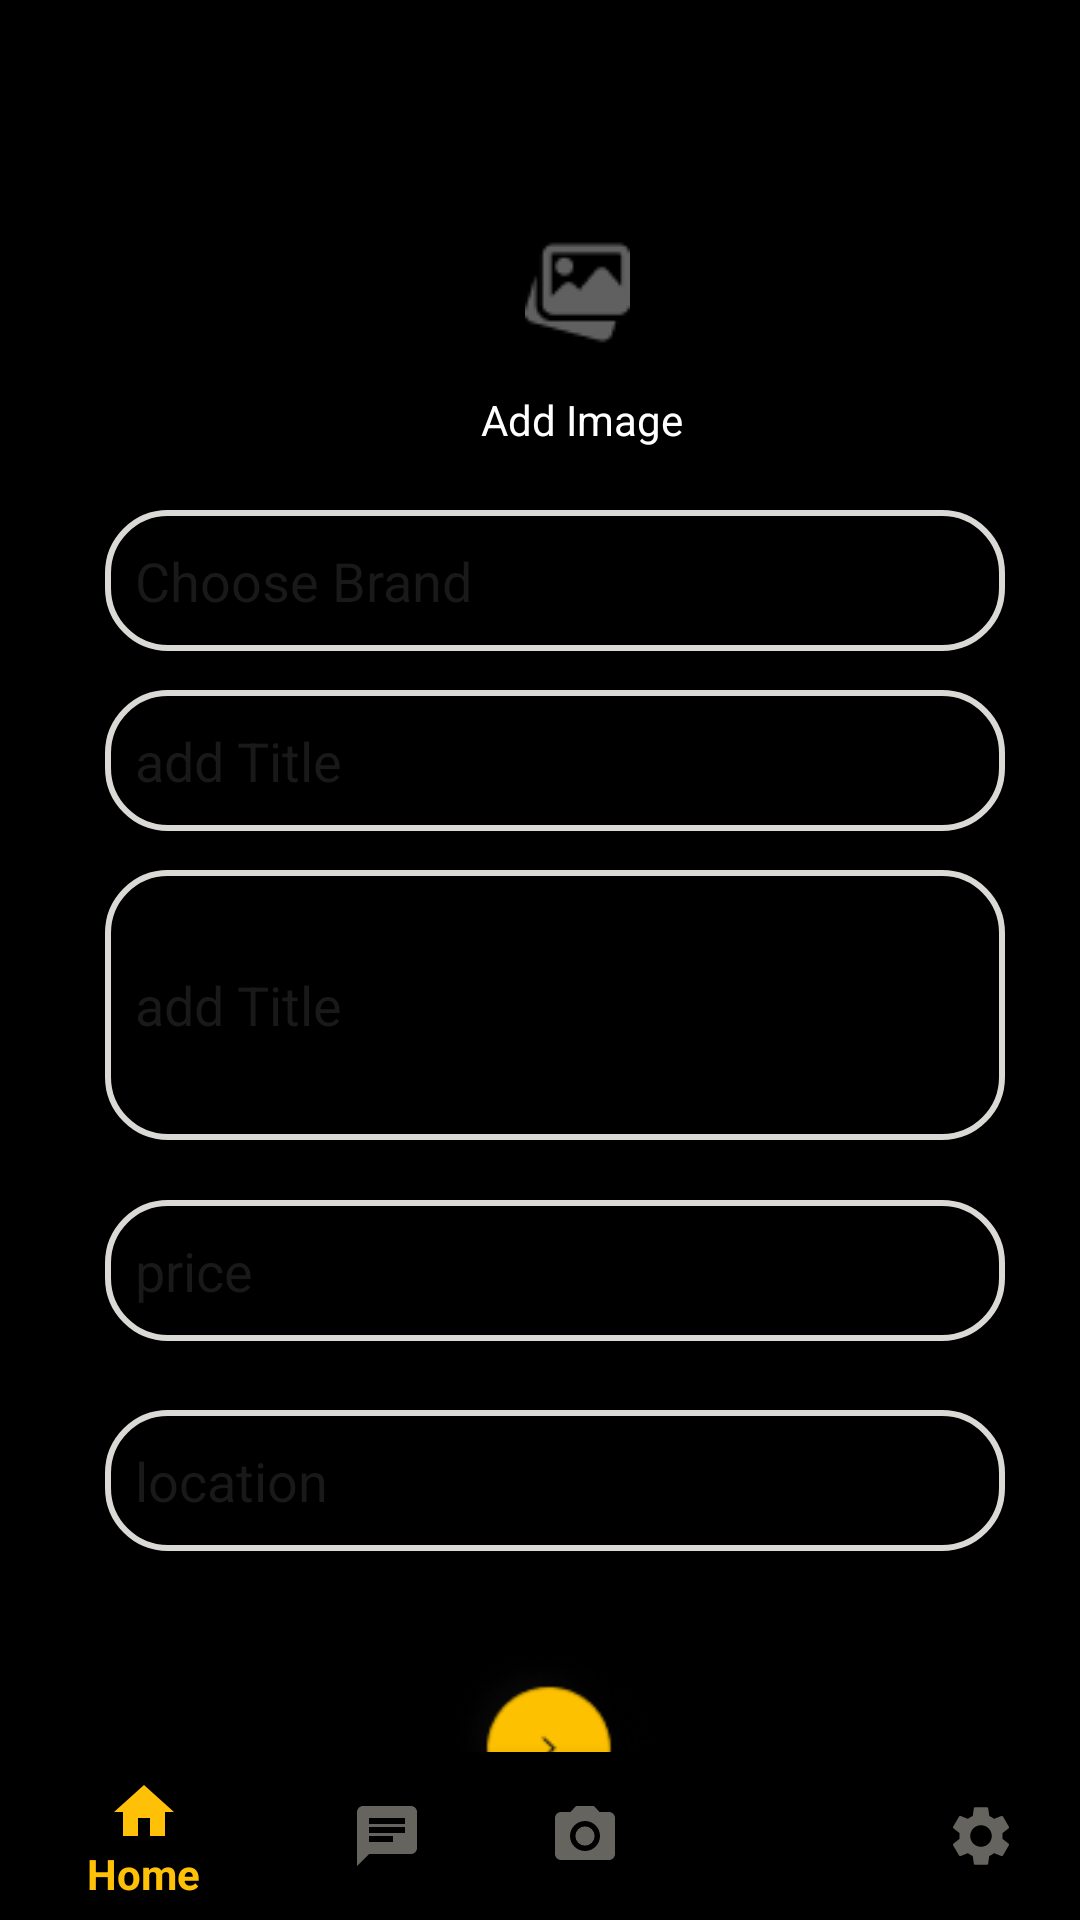

Screen size 1080px x 1920px. Icon name, then its center in pixels as point (x, y):
placehoder: point (577, 292)
